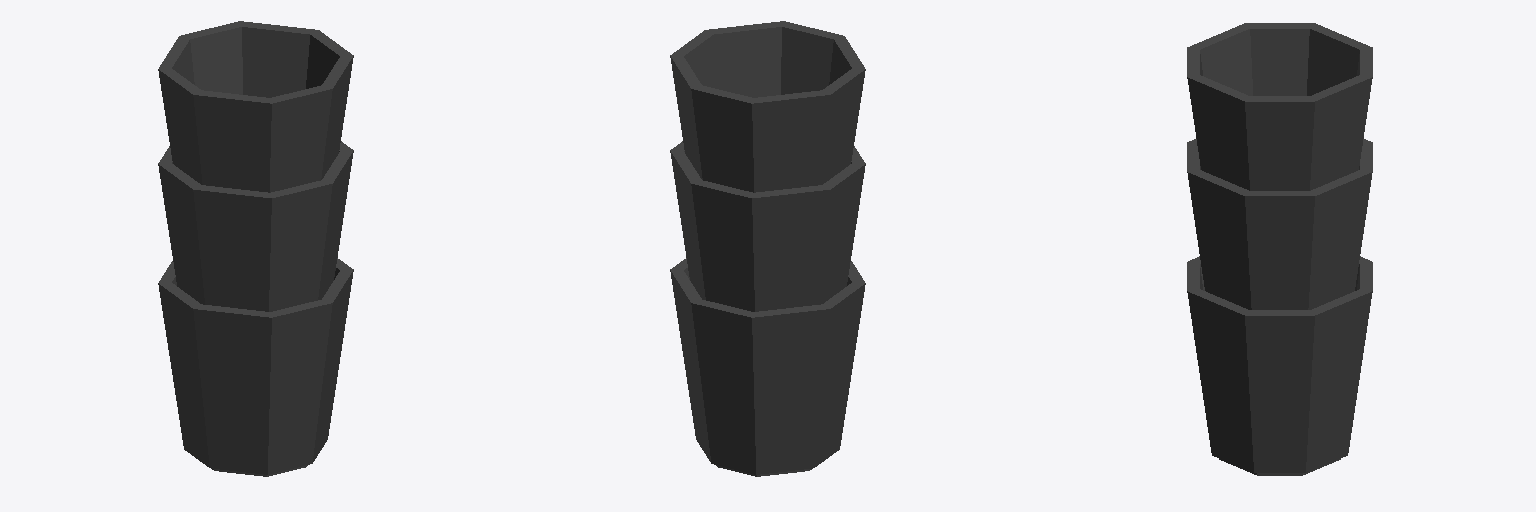
Rendered from cup5.obj.
3 views of the same model, side by side, from view 1: azimuth 30°, elevation 25°; view 2: azimuth 150°, elevation 25°; view 3: azimuth 270°, elevation 25° (orthographic).
Visible parts, largest first — view 1: Cube.027; view 2: Cube.027; view 3: Cube.027.
Boxes of the visible parts, x1,y1,x2,y2 form: Cube.027: [158, 21, 353, 476]; Cube.027: [670, 21, 865, 476]; Cube.027: [1187, 23, 1372, 475].
Bounding box in the file's own units: 0.5299 × 1.22 × 0.5299.